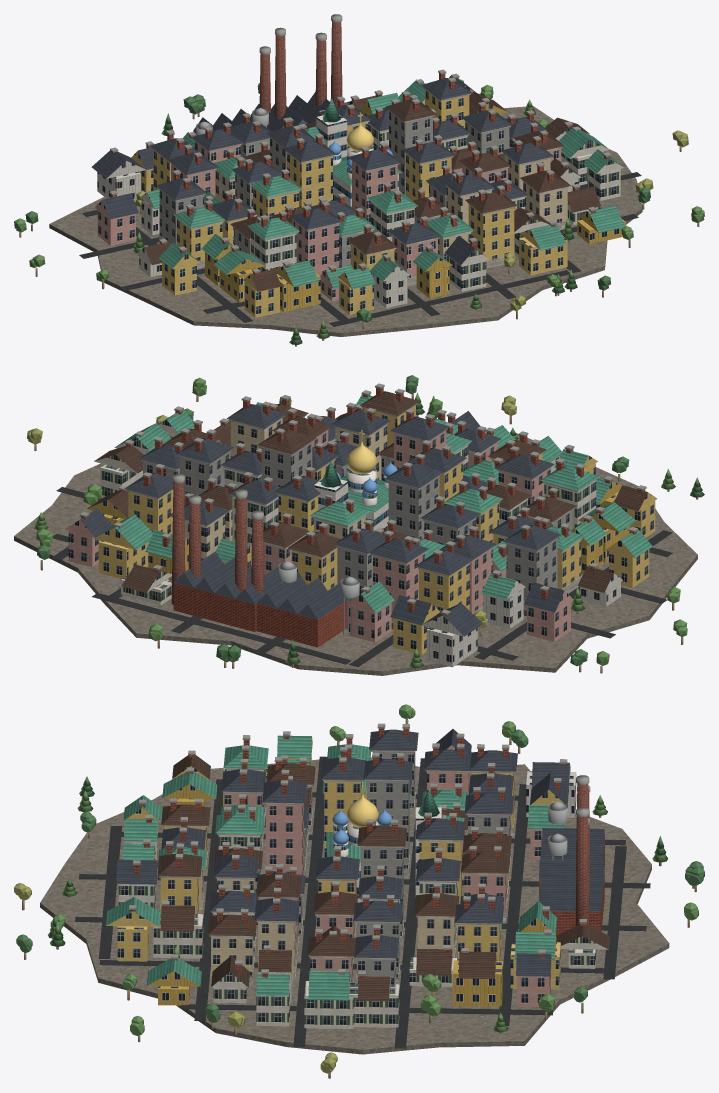
Rendered from city_east_large.glb.
The picture shows the model from 3 angles, top to bottom: view 1: azimuth 30°, elevation 25°; view 2: azimuth 150°, elevation 25°; view 3: azimuth 270°, elevation 25°; orthographic projection. The views are drawn at different scales.
Parts seen in each view (by area): view 1: city_east_large; view 2: city_east_large; view 3: city_east_large.
Part boxes in pixels (box(x1,y1,x2,y2)): city_east_large: box(14, 14, 704, 346); city_east_large: box(14, 375, 704, 675); city_east_large: box(14, 704, 704, 1078).
Bounding box in the file's own units: 5.17 × 0.93 × 4.23.
Materials: 26 (17 with a texture image).
